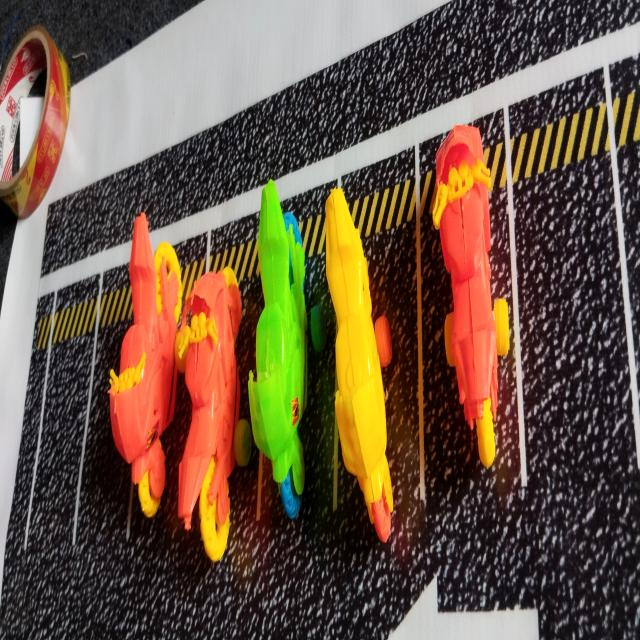occupied: (418, 110, 520, 514), (326, 189, 419, 547), (248, 181, 338, 524), (175, 266, 263, 562), (109, 213, 181, 539)
others: (0, 25, 70, 219)
slots: (514, 152, 636, 489), (28, 335, 94, 559), (76, 321, 132, 547)
